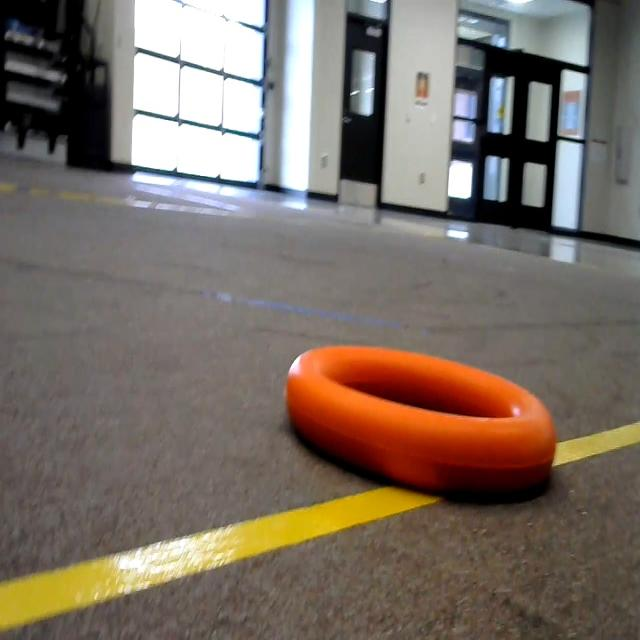note: (266, 310, 572, 519)
